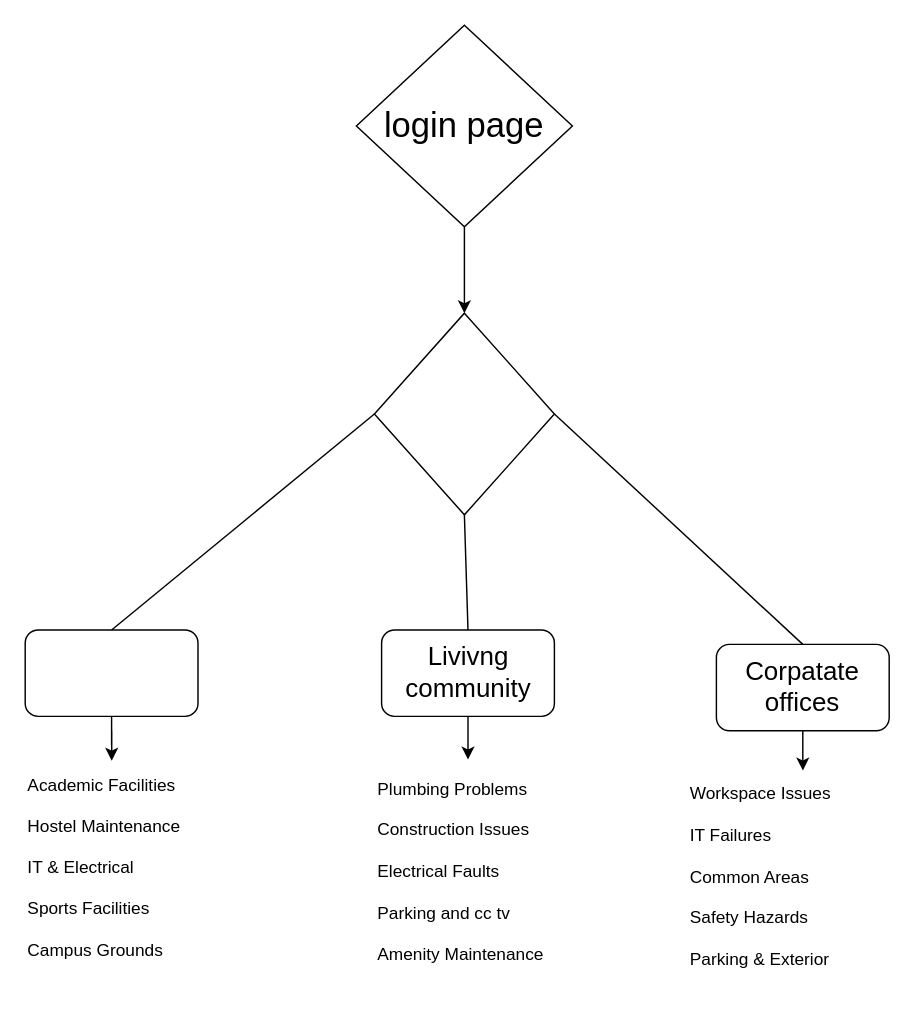
Some shapes in this 914 by 1017 pixel diagram are drawn without their labels. The shapes that lost their labels are listed below. From the top down, each one's box as (x1, y1, x2, y2) in pixels, then its label:
(373, 312, 554, 515): Admin
(24, 629, 198, 716): educational institutions
